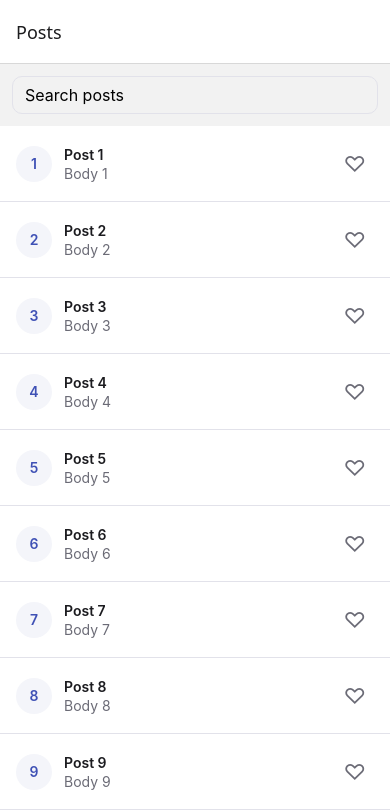
Test: typing debounces into one search; clearing returns to the list
The image size is (390, 811).
expect the text "Post 1" is shown: met, box [64,146,104,162]
Type "P" into the field labelled "Search posts" at (195, 95), box [25,77,365,113]
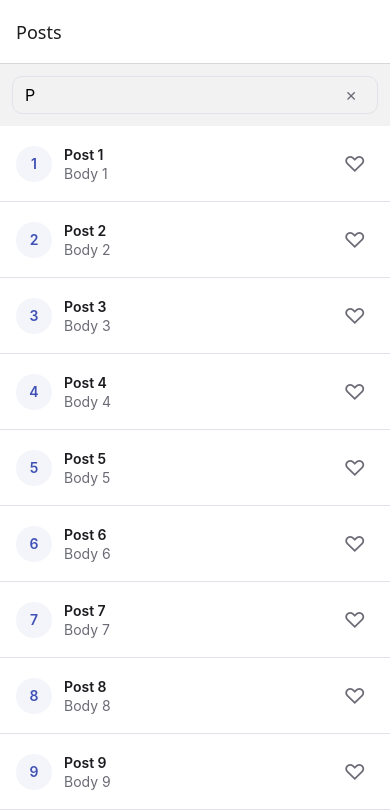
Replace the text in the field named "Search posts" with "Post" at (181, 95), box [25,77,337,113]
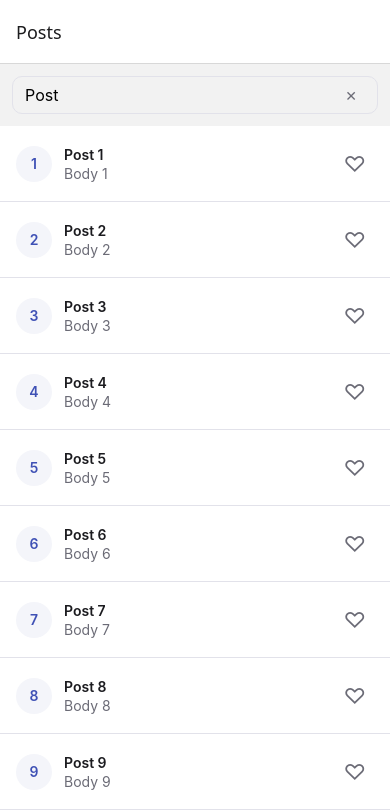
Replace the text in the field named "Search posts" with "Post 42" at (181, 95), box [25,77,337,113]
Wait 300 ms
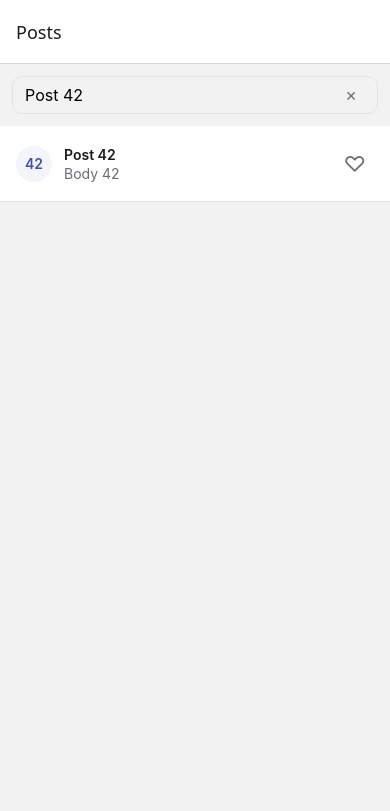
expect the text "Post 42" is shown: met, box [64,146,116,162]
expect the button "Post 1" is gone: met
Replace the text in the field named "Search posts" with "zzz" at (181, 95), box [25,77,337,113]
Wait 300 ms
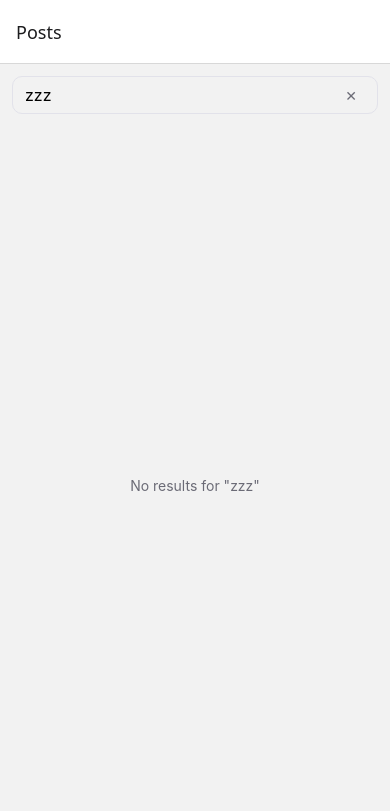
expect the text "No results for \"zzz\"" is shown: met, box [130,476,260,494]
Click the button named "Clear" at (351, 95), box [337,78,365,112]
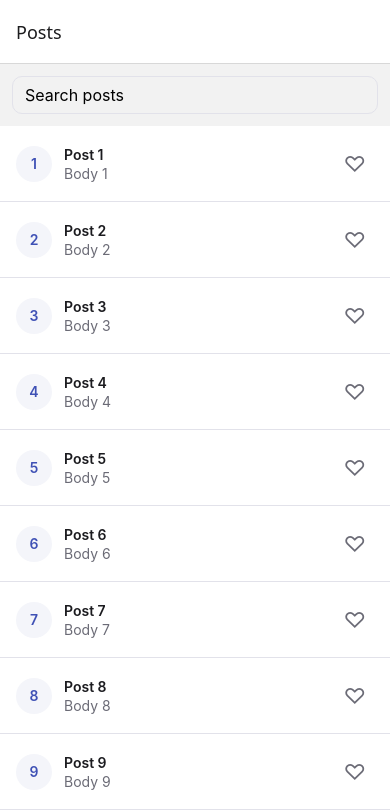
expect the text "Post 1" is shown: met, box [64,146,104,162]
